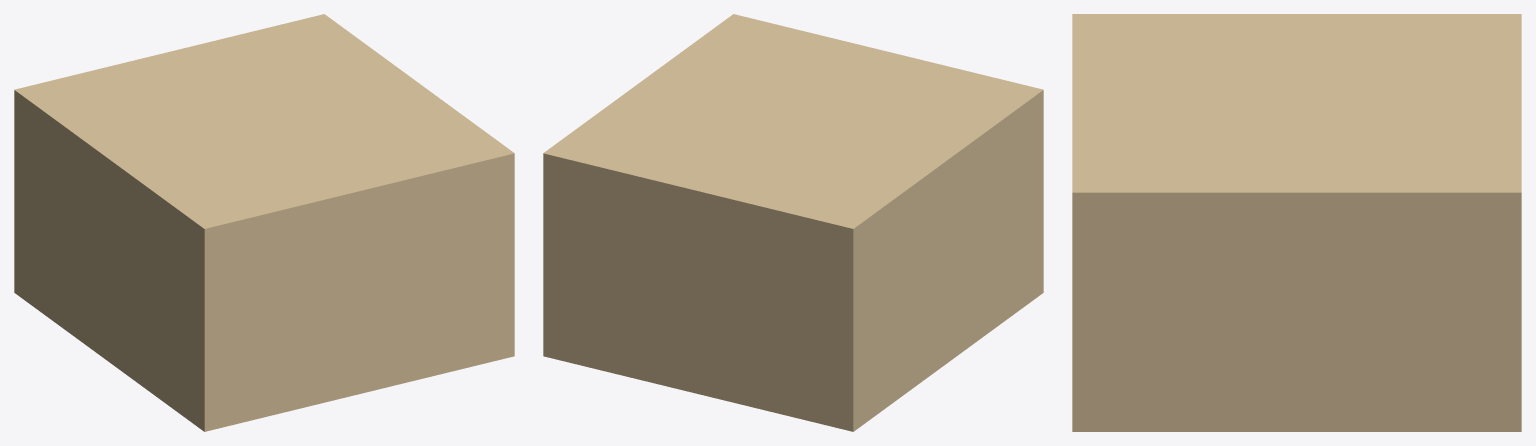
The model's file is prop_gut_cup_lod2.glb.
The picture shows the model from 3 angles, left to right: view 1: azimuth 30°, elevation 25°; view 2: azimuth 150°, elevation 25°; view 3: azimuth 270°, elevation 25°; orthographic projection. The views are drawn at different scales.
Parts seen in each view (by area): view 1: prop_gut_cup_lod2; view 2: prop_gut_cup_lod2; view 3: prop_gut_cup_lod2.
Part boxes in pixels (bbox=[...]): prop_gut_cup_lod2: bbox=[14, 14, 514, 431]; prop_gut_cup_lod2: bbox=[543, 14, 1043, 431]; prop_gut_cup_lod2: bbox=[1072, 14, 1521, 431].
Size of the model in its own units: 0.32 by 0.2 by 0.34.
